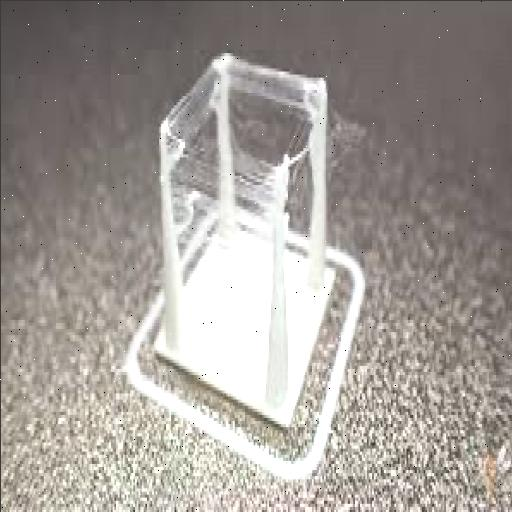stringing: (174, 127, 276, 292), (168, 118, 216, 267), (283, 117, 315, 279), (166, 62, 214, 160), (231, 59, 315, 112), (328, 107, 367, 175)
